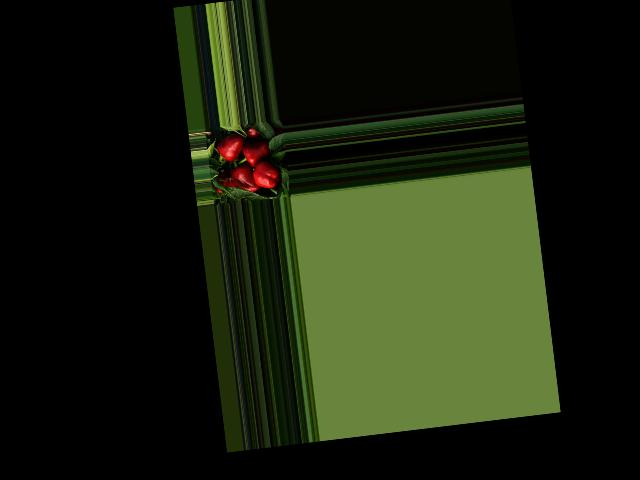bell_pepper: (250, 152, 281, 192)
